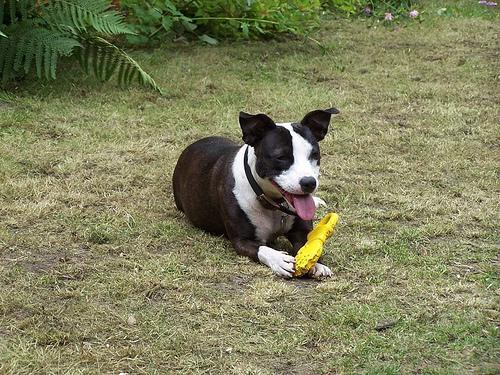dog-staffordshire_bull_terrier: (237, 107, 338, 218)
